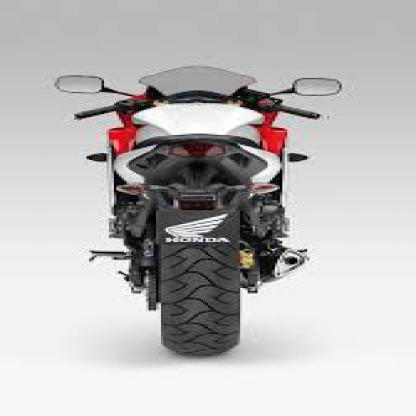Motorcycle: (47, 59, 370, 374)
